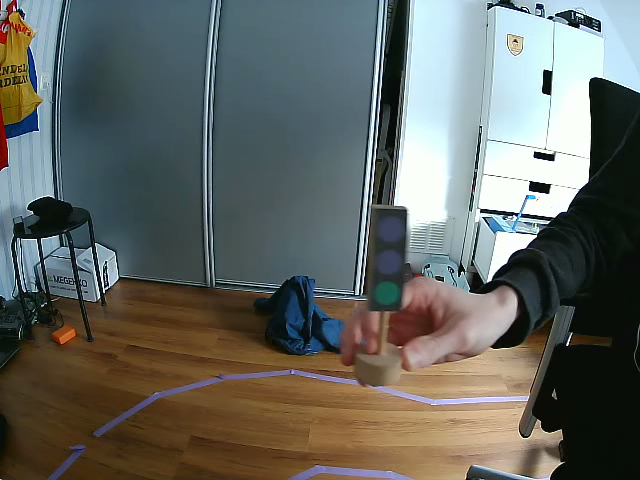groenlicht: (370, 210, 406, 312)
